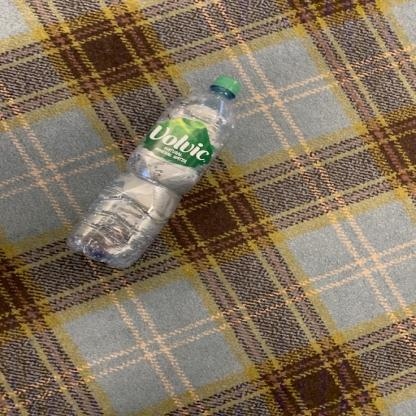trash: (66, 75, 244, 270)
